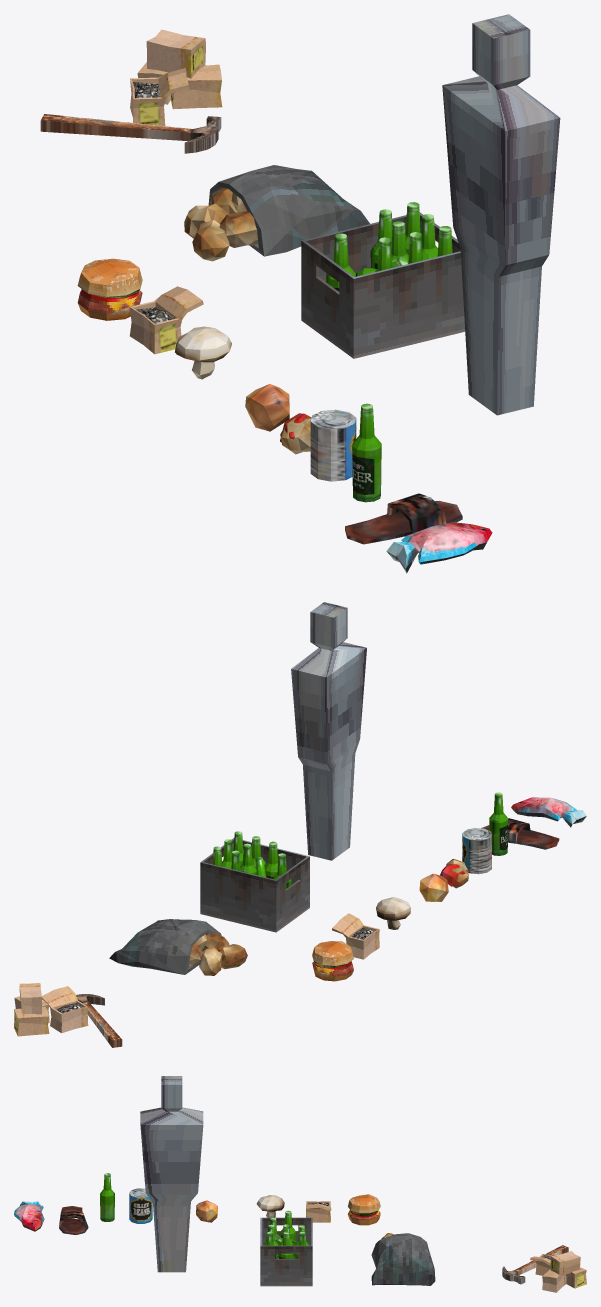
File: soup-potato.glb
3 renders of one model, top to bottom at view 1: azimuth 30°, elevation 25°; view 2: azimuth 150°, elevation 25°; view 3: azimuth 270°, elevation 25°, orthographic. The views are drawn at different scales.
Visible parts, largest first — view 1: HumanSizeRef-noimp, Plane, Plane.001, soup-burger, Plane.002, soup-sandal, soup-fish, soup-beans, soup-nails, soup-beer, soup-nails.004, soup-nails.001 (+7 smaller); view 2: HumanSizeRef-noimp, Plane, Plane.001, soup-nails.001, soup-burger, soup-fish, soup-nails, soup-beans, soup-sandal, soup-beer, Plane.002, soup-nails.002 (+3 smaller); view 3: HumanSizeRef-noimp, Plane.001, Plane, soup-burger, soup-beans, soup-sandal, soup-fish, soup-beer, soup-nails.004, Plane.002, soup-nails, soup-shroom (+4 smaller).
Part boxes in pixels (bbox=[...]): HumanSizeRef-noimp: bbox=[442, 14, 560, 415]; Plane: bbox=[301, 212, 465, 358]; Plane.001: bbox=[208, 165, 369, 256]; soup-burger: bbox=[77, 258, 142, 320]; Plane.002: bbox=[40, 114, 221, 153]; soup-sandal: bbox=[345, 493, 462, 544]; soup-fish: bbox=[386, 522, 492, 573]; soup-beans: bbox=[310, 409, 356, 481]; soup-nails: bbox=[129, 286, 203, 354]; soup-beer: bbox=[352, 403, 381, 502]; soup-nails.004: bbox=[146, 29, 205, 78]; soup-nails.001: bbox=[130, 68, 189, 125]; HumanSizeRef-noimp: bbox=[291, 602, 366, 860]; Plane: bbox=[200, 838, 309, 932]; Plane.001: bbox=[109, 919, 221, 974]; soup-nails.001: bbox=[41, 986, 88, 1033]; soup-burger: bbox=[312, 941, 353, 981]; soup-fish: bbox=[511, 797, 586, 827]; soup-nails: bbox=[332, 913, 379, 959]; soup-beans: bbox=[462, 828, 491, 874]; soup-sandal: bbox=[481, 818, 559, 849]; soup-beer: bbox=[489, 792, 508, 855]; Plane.002: bbox=[76, 994, 122, 1047]; soup-nails.002: bbox=[14, 1006, 49, 1036]; HumanSizeRef-noimp: bbox=[140, 1076, 203, 1272]; Plane.001: bbox=[371, 1233, 435, 1285]; Plane: bbox=[260, 1217, 312, 1286]; soup-burger: bbox=[347, 1194, 380, 1225]; soup-beans: bbox=[129, 1188, 152, 1223]; soup-sandal: bbox=[59, 1206, 88, 1234]; soup-fish: bbox=[14, 1201, 44, 1231]; soup-beer: bbox=[100, 1173, 114, 1221]; soup-nails.004: bbox=[550, 1251, 580, 1275]; Plane.002: bbox=[502, 1245, 568, 1284]; soup-nails: bbox=[306, 1201, 331, 1222]; soup-shroom: bbox=[256, 1195, 284, 1217].
Bounding box in the file's own units: 1.79 × 1.84 × 4.99.
Materials: 4 (4 with a texture image).
